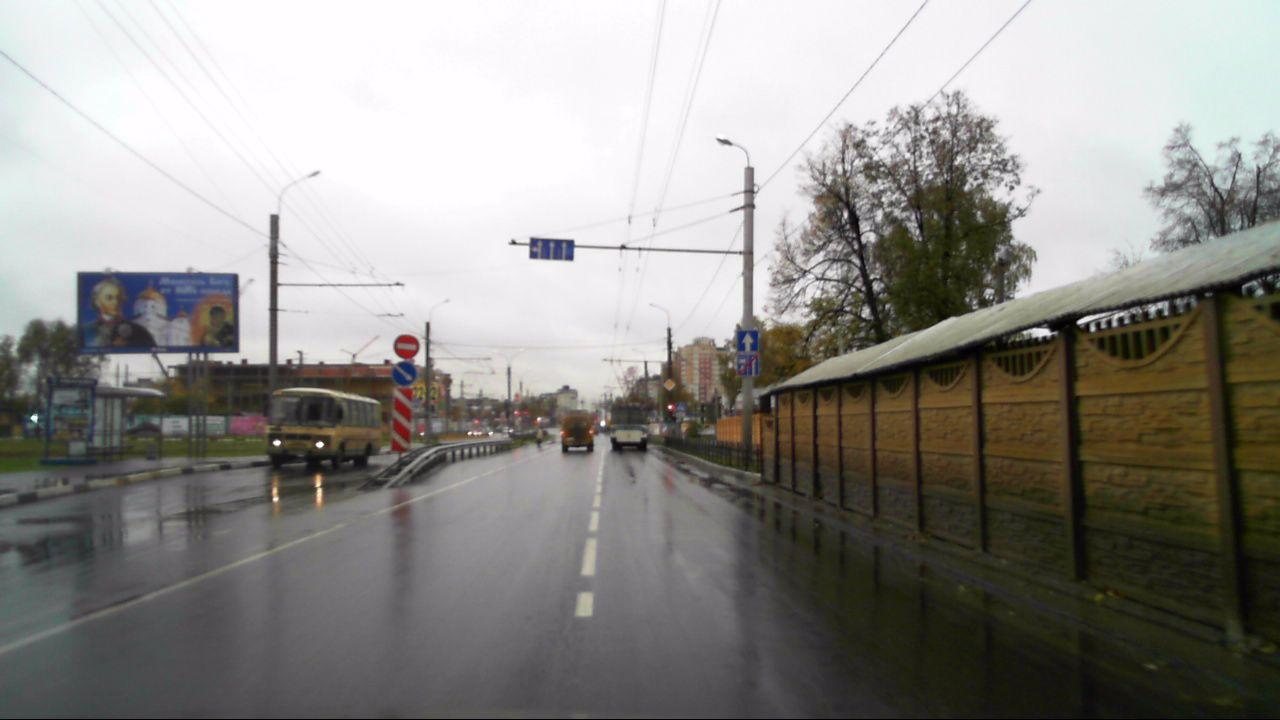2_1: (664, 377, 674, 391)
3_1: (394, 334, 420, 359)
4_2_1: (391, 360, 419, 386)
5_12_1: (736, 355, 757, 376)
5_15_1: (529, 237, 574, 261)
5_19_1: (676, 401, 686, 412)
5_5: (736, 328, 759, 353)
8_22_1: (391, 386, 414, 451)
